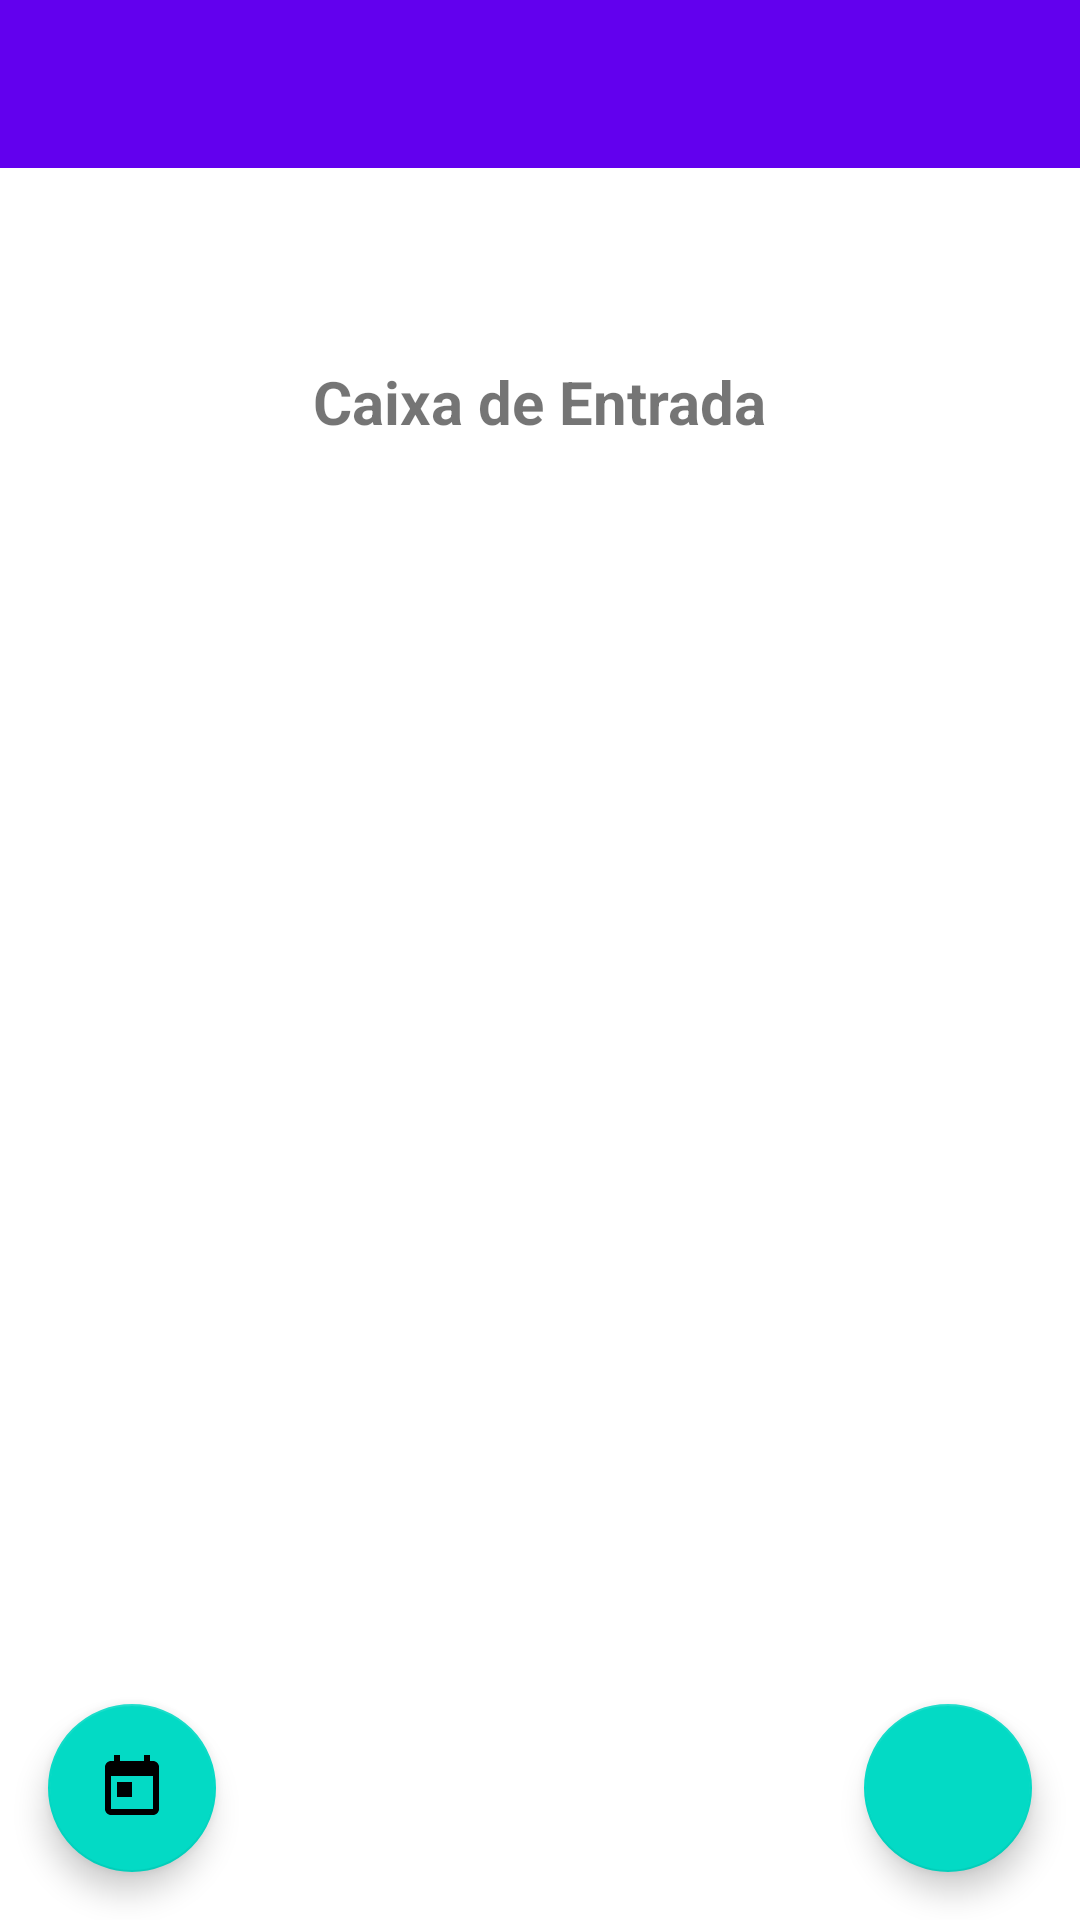

Locate icon controls on the screen. Image size 1080x1920, boxes as box(x1, y1, x2, y2).
calendar: box(48, 1704, 216, 1872)
